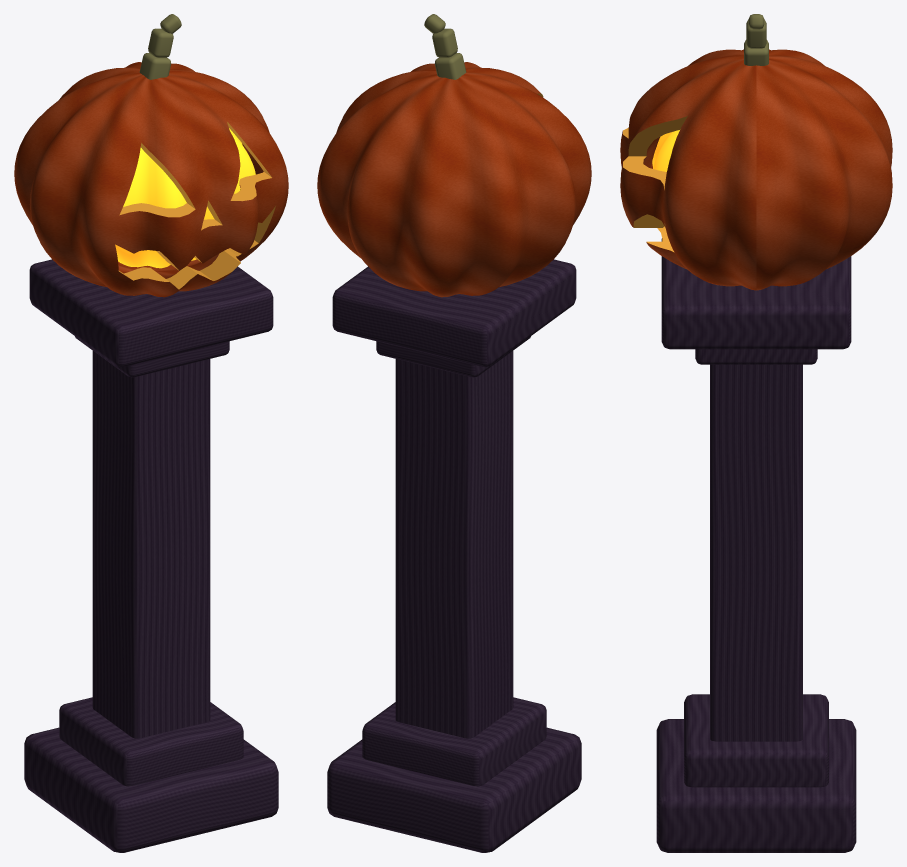
The model's file is 01_Post_Top_Pumpkin.glb.
3 views of the same model, side by side, from view 1: azimuth 30°, elevation 25°; view 2: azimuth 150°, elevation 25°; view 3: azimuth 270°, elevation 25° (orthographic). The views are drawn at different scales.
Parts seen in each view (by area): view 1: 01_Pumpkin_Rind, 01_Post, 01_Base_Lower, 01_Cap, 01_Base_Upper, 01_Emissive_Interior, 01_Capital_Lower, 01_Stem_1, 01_Stem_2; view 2: 01_Pumpkin_Rind, 01_Post, 01_Base_Lower, 01_Cap, 01_Base_Upper, 01_Capital_Lower, 01_Stem_1, 01_Stem_2; view 3: 01_Pumpkin_Rind, 01_Post, 01_Base_Lower, 01_Cap, 01_Base_Upper, 01_Capital_Lower, 01_Emissive_Interior.
Part boxes in pixels (bbox=[...]): 01_Pumpkin_Rind: bbox=[14, 62, 288, 297]; 01_Post: bbox=[92, 351, 210, 738]; 01_Base_Lower: bbox=[24, 727, 278, 852]; 01_Cap: bbox=[29, 259, 273, 366]; 01_Base_Upper: bbox=[59, 697, 243, 786]; 01_Emissive_Interior: bbox=[115, 128, 255, 268]; 01_Capital_Lower: bbox=[75, 336, 229, 377]; 01_Stem_1: bbox=[139, 53, 171, 79]; 01_Stem_2: bbox=[148, 28, 173, 57]; 01_Pumpkin_Rind: bbox=[317, 62, 591, 297]; 01_Post: bbox=[395, 351, 513, 738]; 01_Base_Lower: bbox=[327, 727, 581, 852]; 01_Cap: bbox=[332, 259, 576, 366]; 01_Base_Upper: bbox=[362, 697, 546, 786]; 01_Capital_Lower: bbox=[376, 336, 530, 377]; 01_Stem_1: bbox=[434, 53, 466, 79]; 01_Stem_2: bbox=[432, 28, 457, 57]; 01_Pumpkin_Rind: bbox=[620, 49, 892, 290]; 01_Post: bbox=[710, 364, 802, 741]; 01_Base_Lower: bbox=[656, 719, 856, 852]; 01_Cap: bbox=[661, 238, 851, 349]; 01_Base_Upper: bbox=[684, 694, 828, 787]; 01_Capital_Lower: bbox=[695, 349, 817, 364]; 01_Emissive_Interior: bbox=[652, 130, 679, 171].
Size of the model in its own units: 0.8897 by 2.78 by 0.8462.
5 materials, 2 textured.
